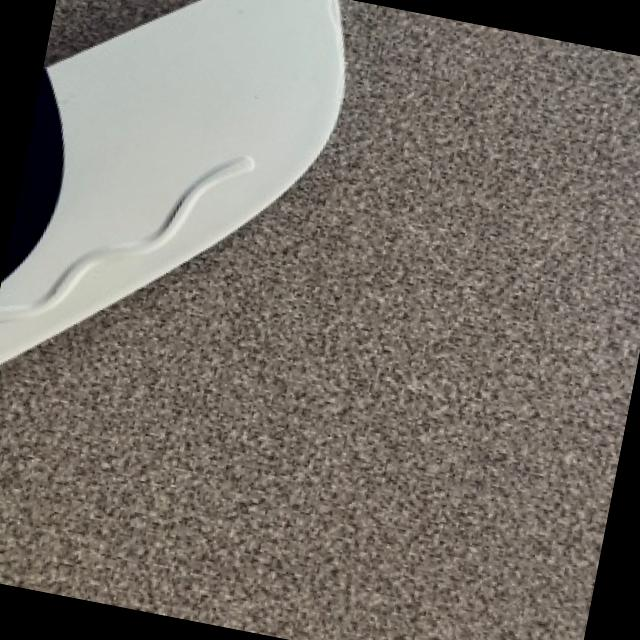healthy: (0, 0, 344, 359)
